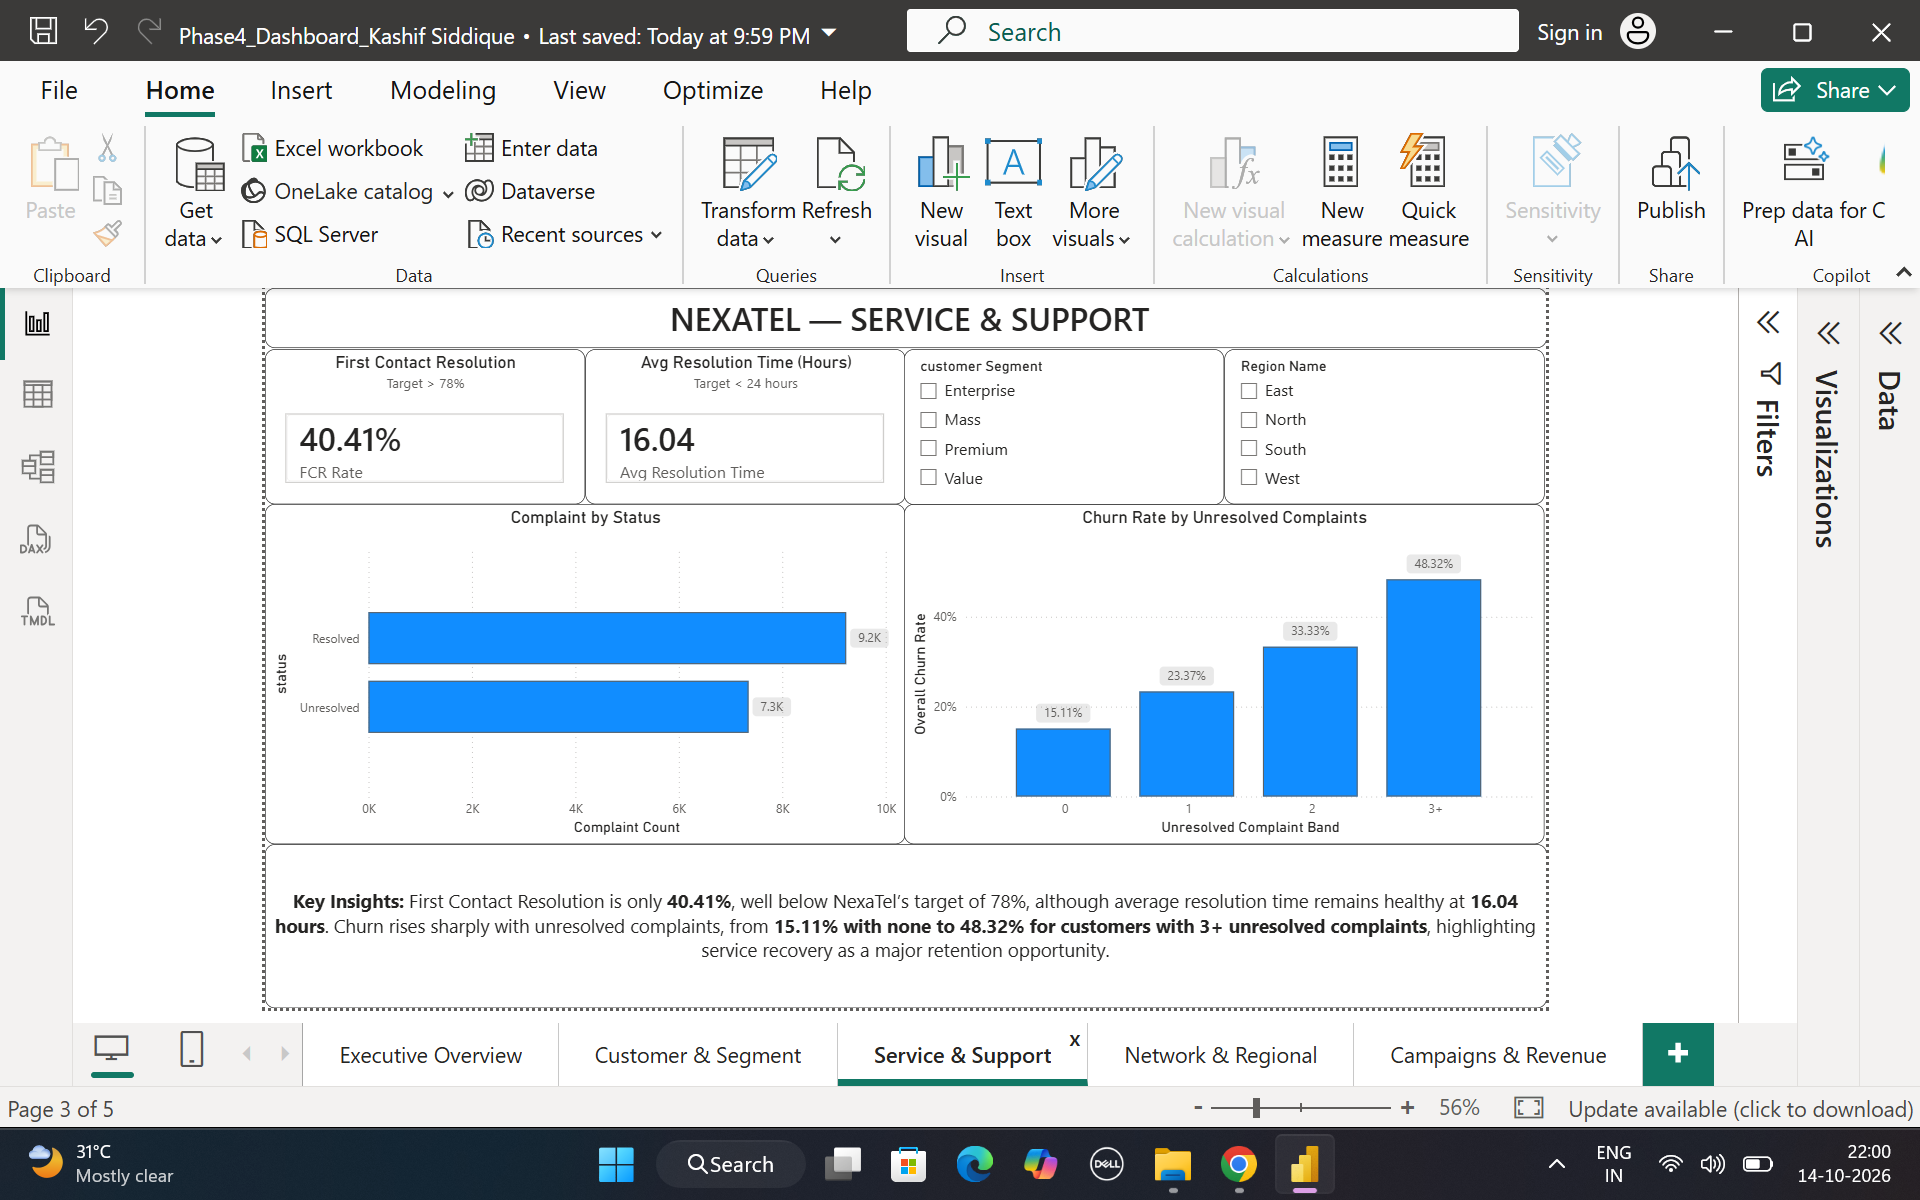

The page's visual inventory and layout, read from the dashboard file:
{"tool":"powerbi","page":{"name":"Service & Support","canvas":[1280,720],"ordinal":2},"visuals":[{"type":"textbox","box":[0,0,1280.8,60],"z":0},{"type":"cardVisual","title":"Avg Resolution Time (Hours)","fields":{"Data":["KPI_Measures.Avg Resolution Time"]},"box":[319.5,60.7,320,155],"z":1000},{"type":"cardVisual","title":"First Contact Resolution","fields":{"Data":["KPI_Measures.FCR Rate"]},"box":[0,60.7,320,155],"z":2000},{"type":"clusteredBarChart","title":"Complaints by Status","fields":{"Category":["complaints_clean.status"],"Y":["KPI_Measures.Complaint Count"]},"box":[0,216.4,640,340],"z":3000},{"type":"clusteredColumnChart","title":"Churn Rate by Unresolved Complaints","fields":{"Category":["customers_clean.Unresolved Complaint Band"],"Y":["KPI_Measures.Overall Churn Rate"]},"box":[639,216.4,640,340],"z":4000},{"type":"slicer","fields":{"Values":["customers_clean.customer_segment"]},"box":[638.6,61.2,320,155.7],"z":5000},{"type":"slicer","fields":{"Values":["regions_clean.region_name"]},"box":[958.8,61.2,320,155],"z":6000},{"type":"textbox","box":[0,555.9,1280.8,163.7],"z":7000}]}

Visuals, with their boxes on the page's 1280x720 design canvas (x1, y1, x2, y2). These are canvas units, not pixel positions in the 1920x1200 screenshot, which may show the page scaled, cropped or inside an application window:
textbox: Rect(0, 0, 1281, 60)
"Avg Resolution Time (Hours)" cardVisual: Rect(320, 61, 640, 216)
"First Contact Resolution" cardVisual: Rect(0, 61, 320, 216)
"Complaints by Status" clusteredBarChart: Rect(0, 216, 640, 556)
"Churn Rate by Unresolved Complaints" clusteredColumnChart: Rect(639, 216, 1279, 556)
slicer - customers_clean.customer_segment: Rect(639, 61, 959, 217)
slicer - regions_clean.region_name: Rect(959, 61, 1279, 216)
textbox: Rect(0, 556, 1281, 720)
